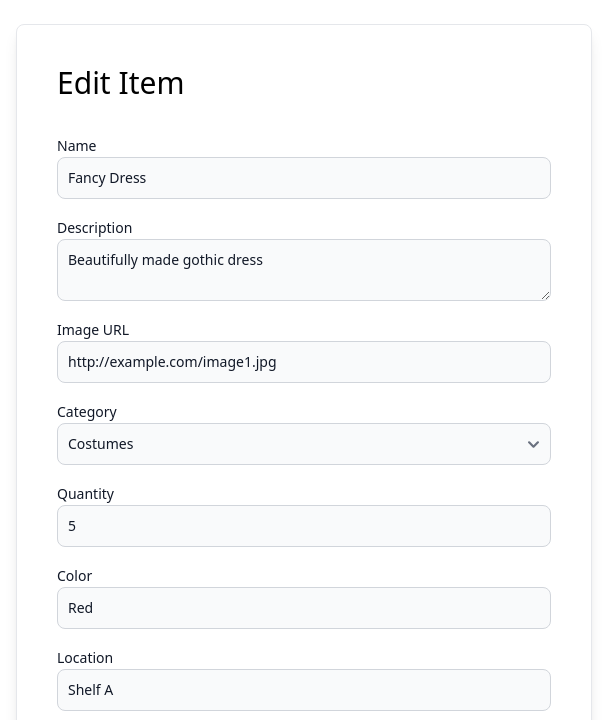
Test case: EditItem Page › prevents form submission if required fields are empty
Clear the field labelled "Name" at (304, 178), box [57, 157, 551, 199]
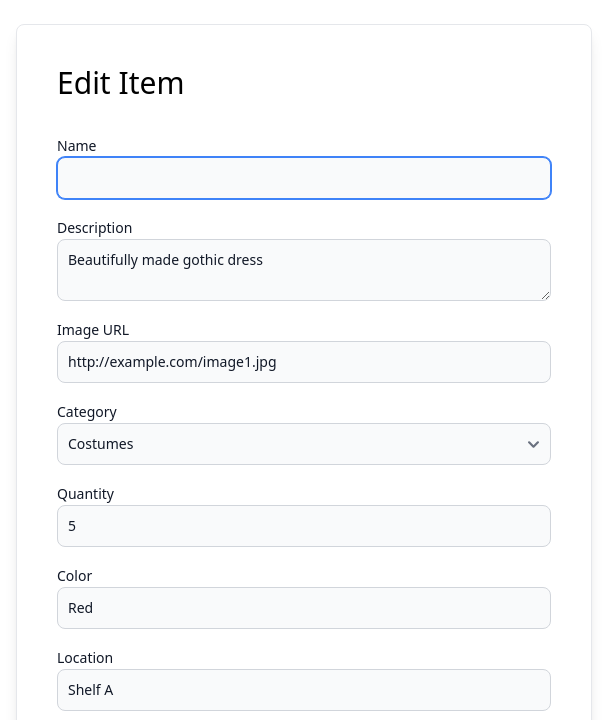
Clear the number field labelled "Quantity" at (304, 526), box [57, 505, 551, 547]
(page scrolled)
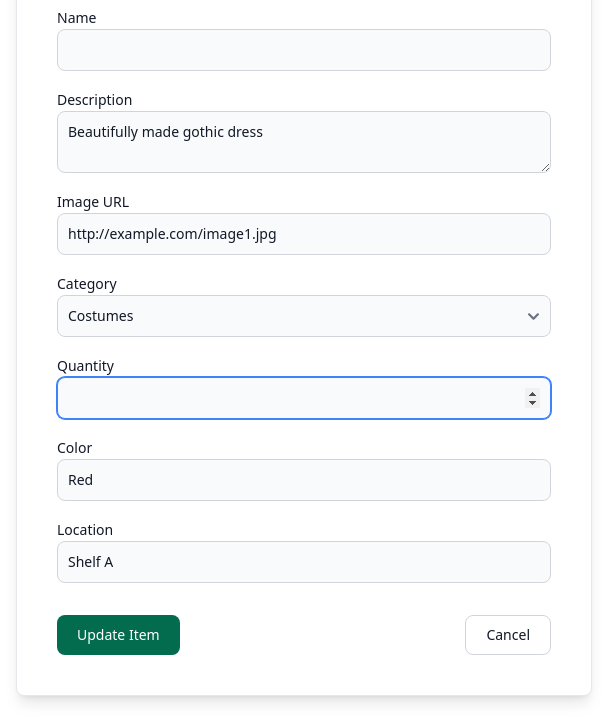
Click the button "Update Item" at (118, 635), box [57, 615, 180, 655]
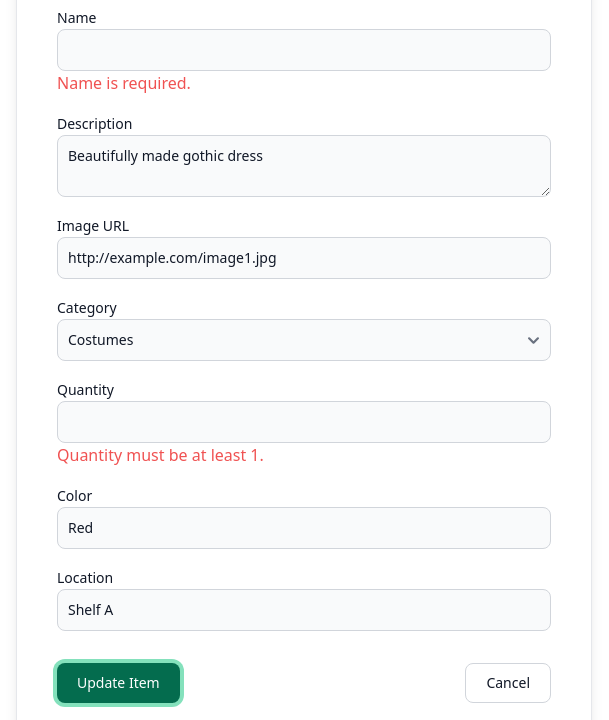
Result: the text "Name is required." is shown at [57, 72, 191, 94]
Result: the text "Quantity must be at least 1." is shown at [57, 444, 264, 466]
